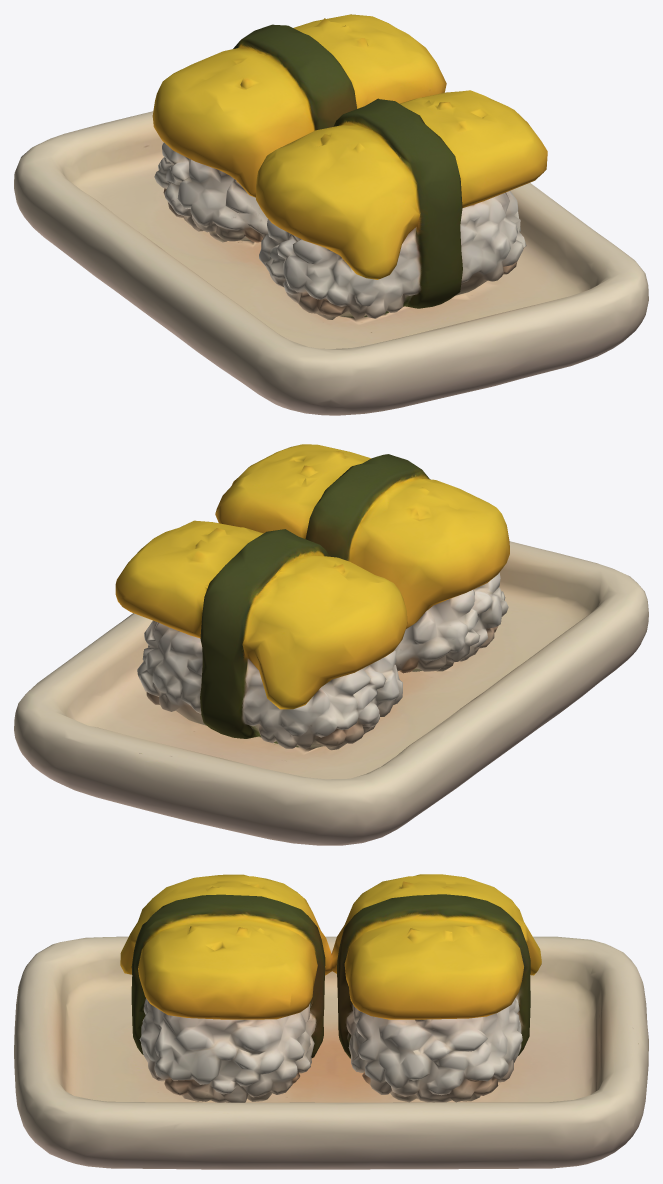
Rendered from kitchen-sushi-tamago-v1.glb.
The picture shows the model from 3 angles, top to bottom: view 1: azimuth 30°, elevation 25°; view 2: azimuth 150°, elevation 25°; view 3: azimuth 270°, elevation 25°; orthographic projection.
Visible parts, largest first — view 1: tripo_node_806e3515-f1a1-4228-ae6e-f2f3c3388b94; view 2: tripo_node_806e3515-f1a1-4228-ae6e-f2f3c3388b94; view 3: tripo_node_806e3515-f1a1-4228-ae6e-f2f3c3388b94.
Boxes of the visible parts, x1,y1,x2,y2 form: tripo_node_806e3515-f1a1-4228-ae6e-f2f3c3388b94: (14,14,648,415); tripo_node_806e3515-f1a1-4228-ae6e-f2f3c3388b94: (14,444,648,845); tripo_node_806e3515-f1a1-4228-ae6e-f2f3c3388b94: (14,874,648,1169).
Bounding box in the file's own units: 0.6965 × 0.3513 × 1.
1 material, 1 textured.
